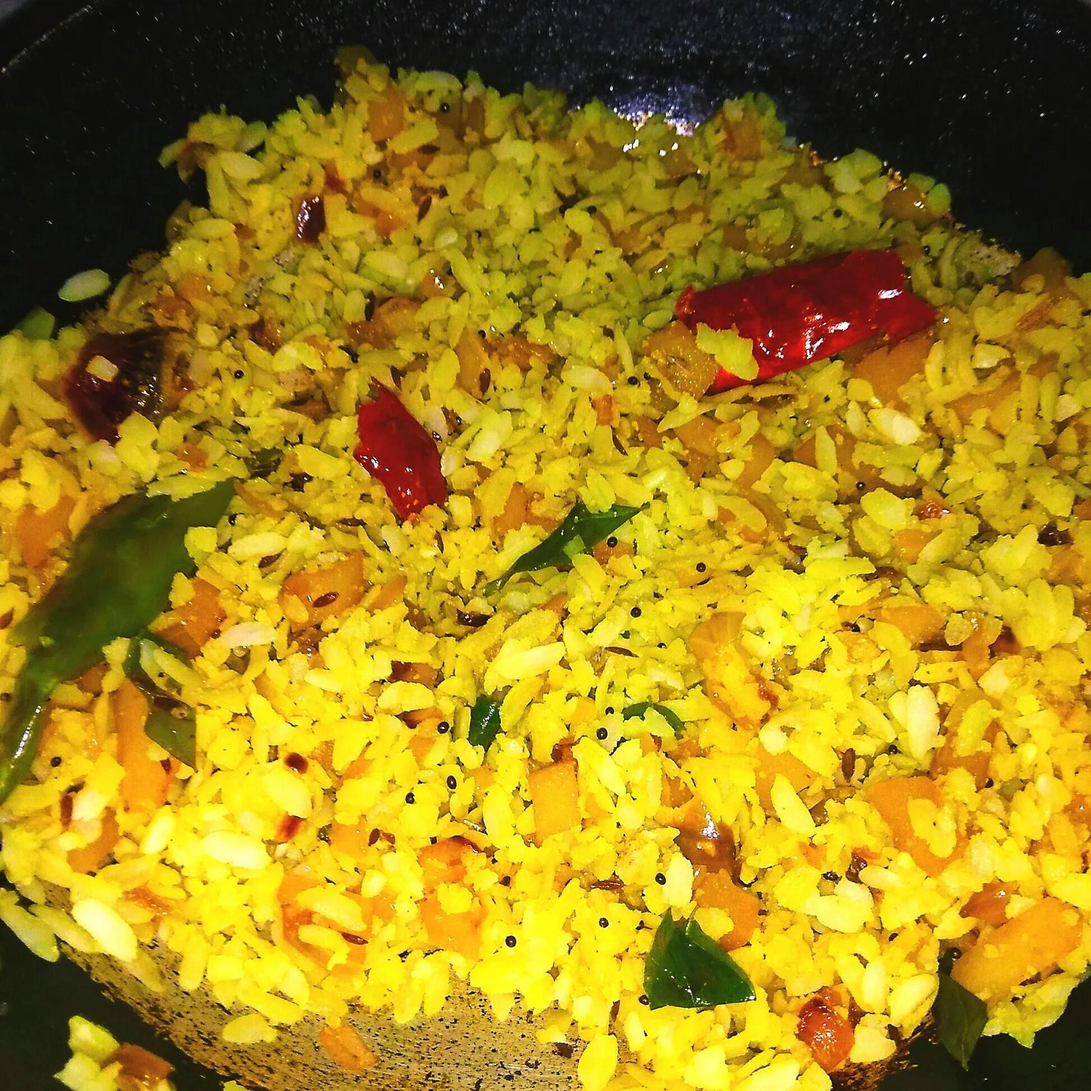Poha: (0, 51, 1091, 1091)
